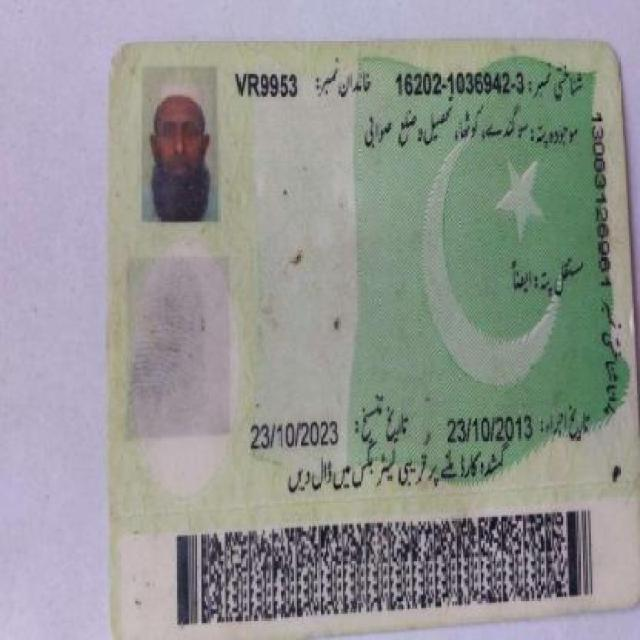Back: (101, 34, 634, 609)
